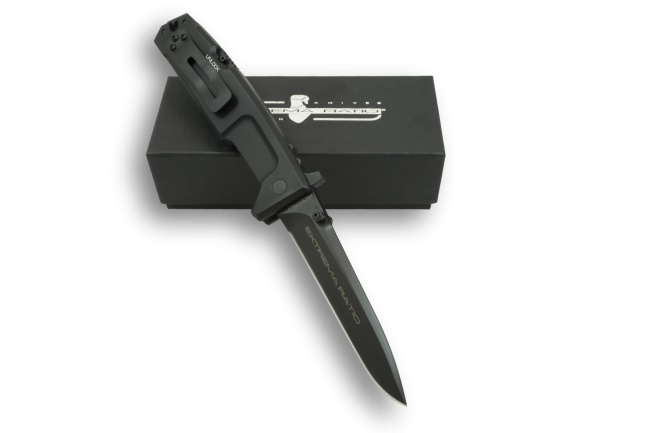knife: (244, 160, 419, 411)
